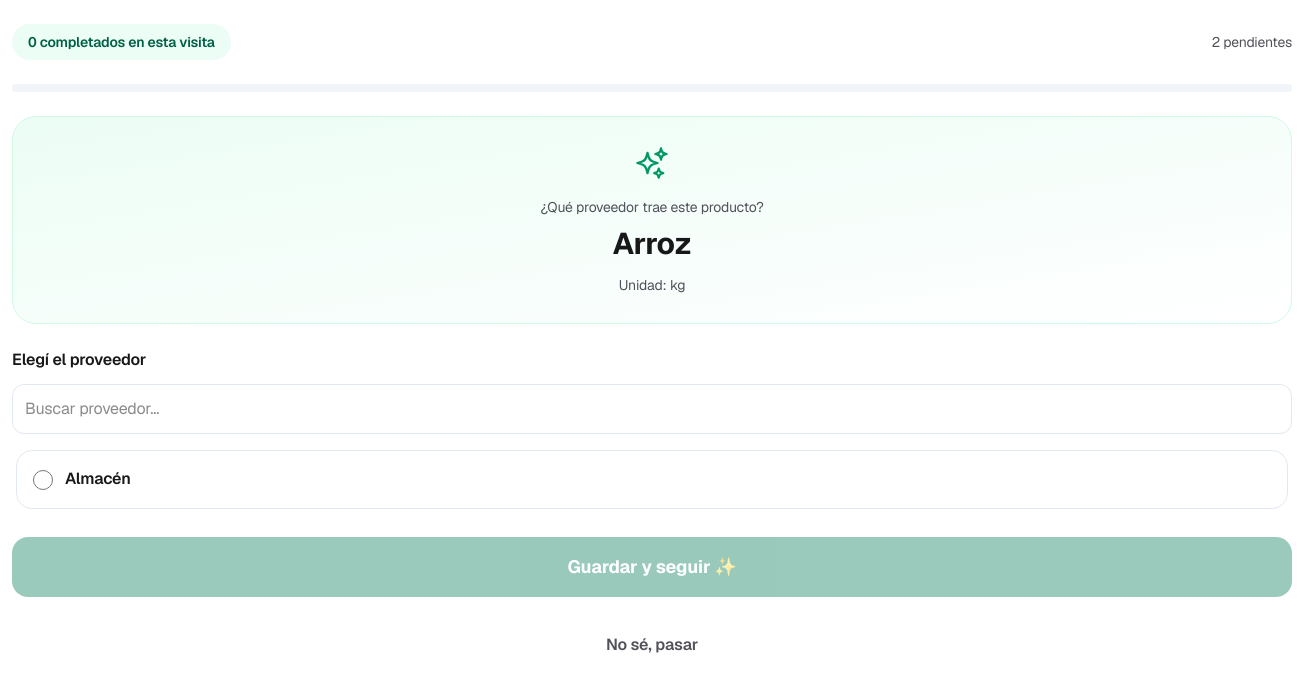
Test: retains the product and selection after a failed save
Step 1. Click the radio button labelled "Almacén" → (43, 480), box [33, 470, 53, 490]
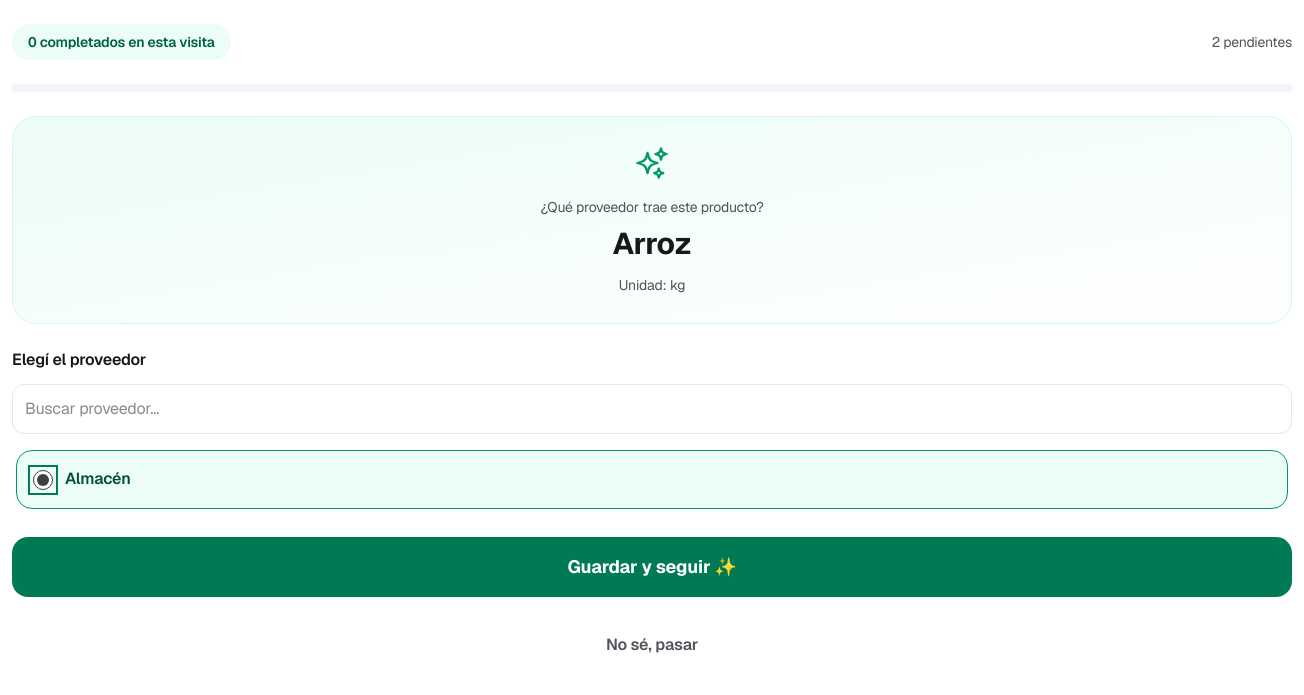
Step 2. Click the button "Guardar y seguir ✨" → (652, 567), box [12, 537, 1292, 597]
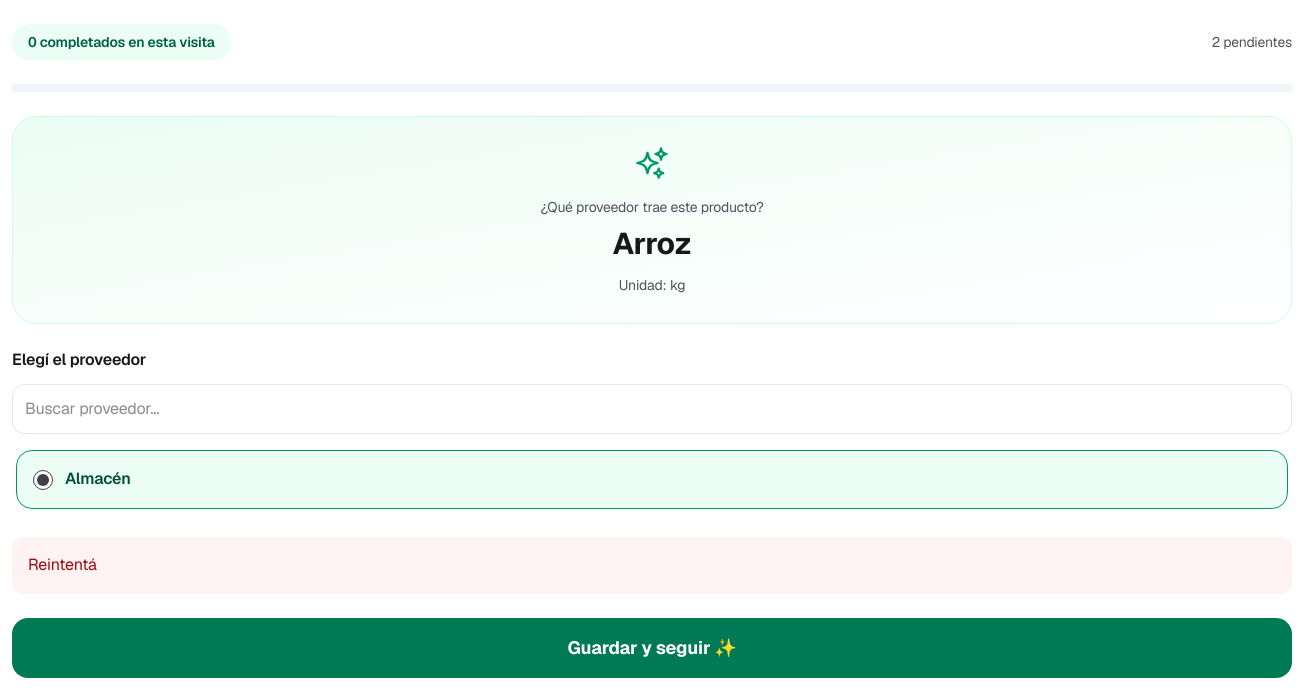
Check: the heading "Arroz" is shown, box [612, 224, 692, 263]
Check: the radio button is checked, box [33, 470, 53, 490]
Check: the message reads "Reintentá", box [28, 554, 97, 575]
